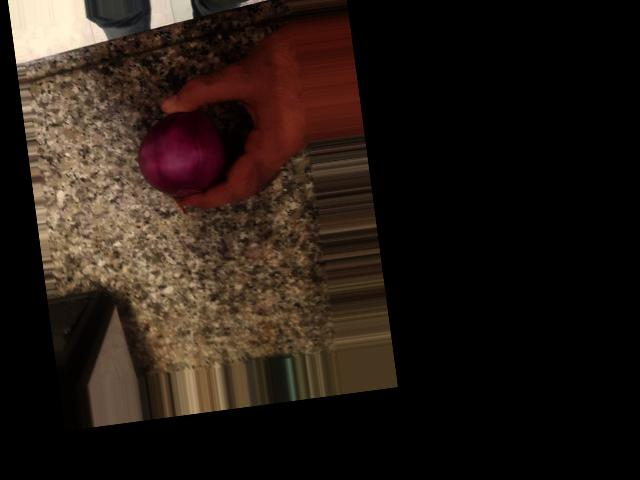onion: (53, 192, 154, 283)
